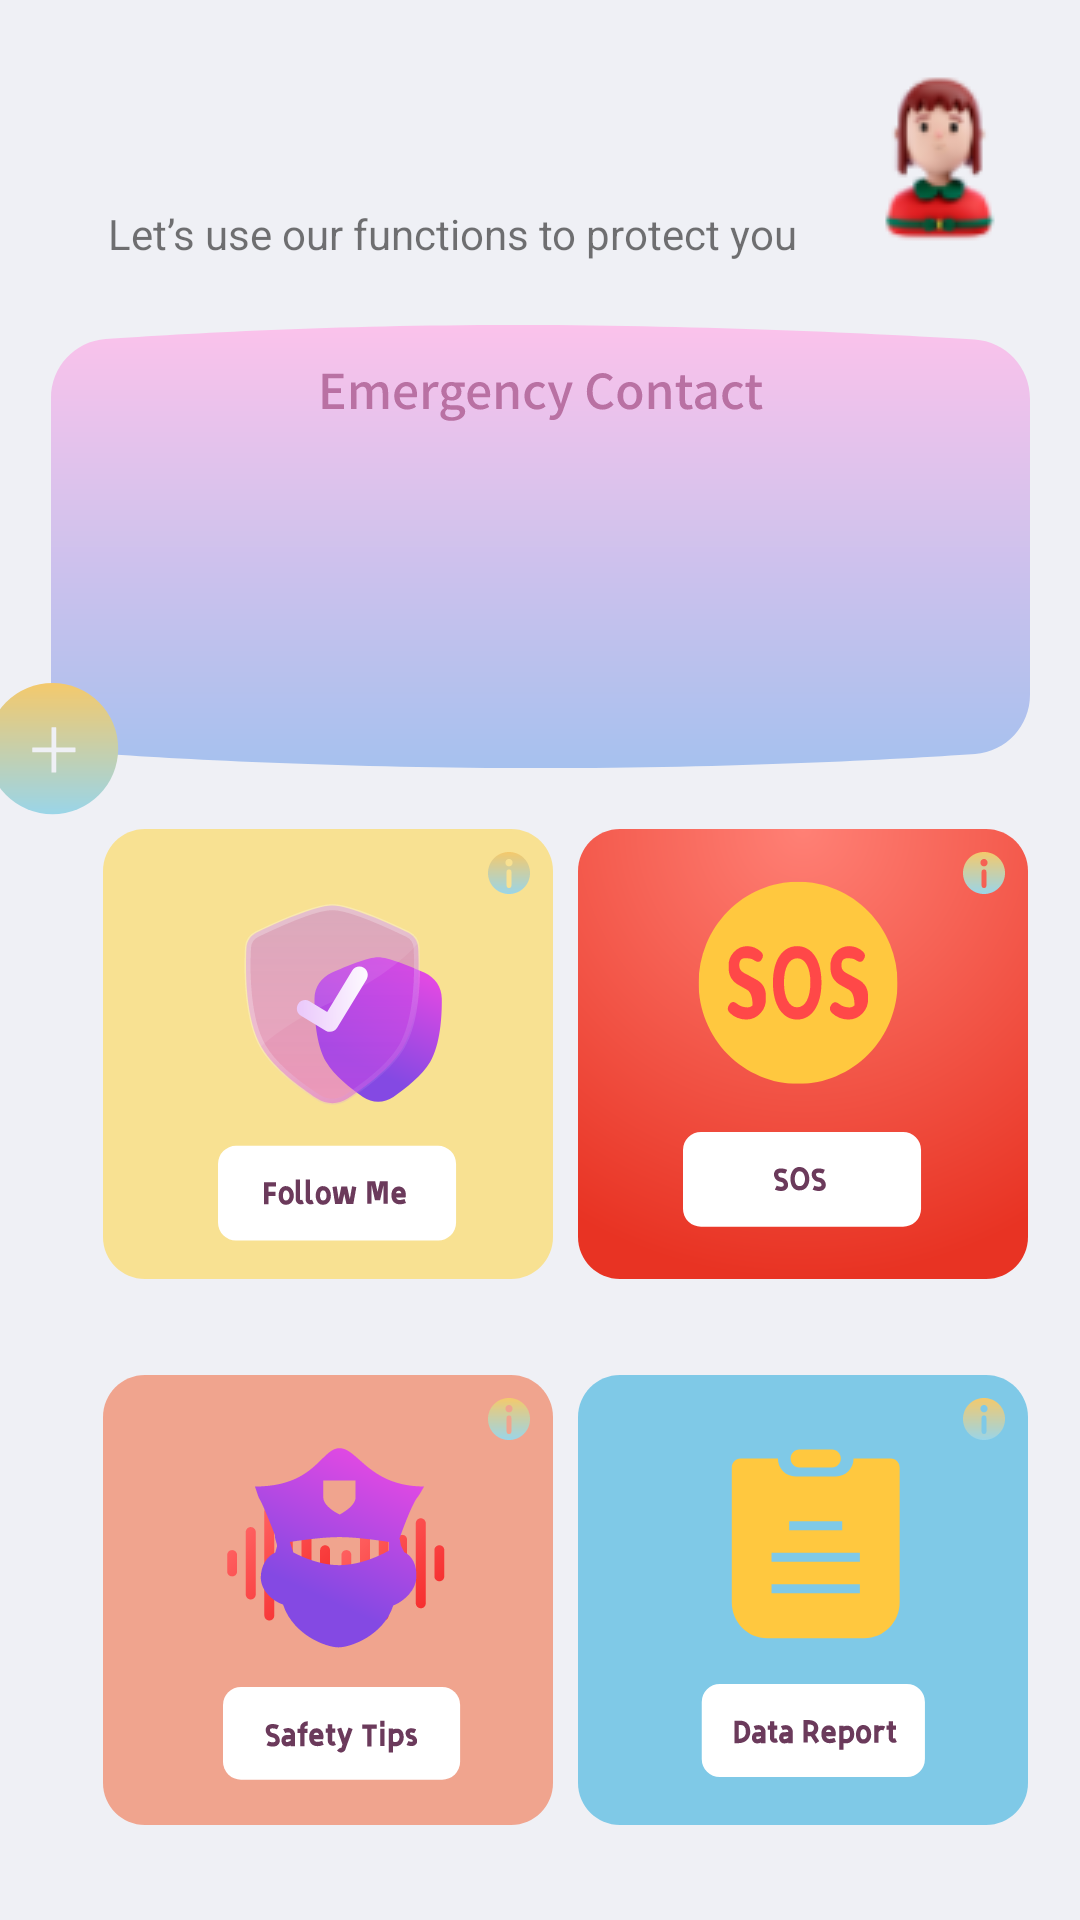

Screen size 1080px x 1920px. Icon name, then its box in pixels as (x1, y1, x2, y2):
profile: (885, 77, 995, 239)
